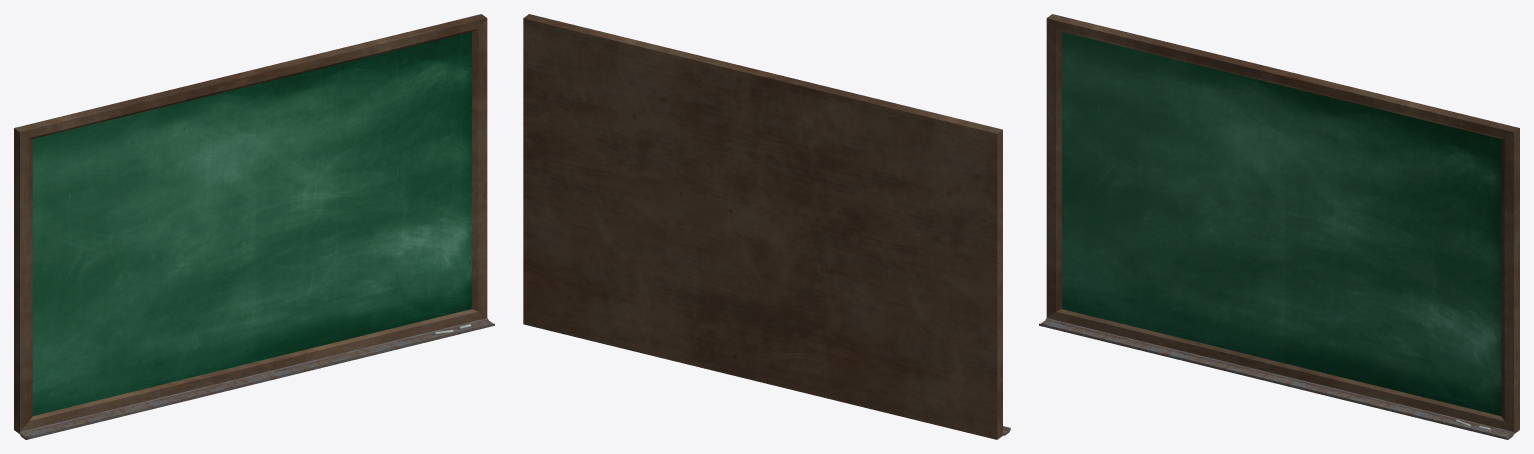
The model's file is chalkboard.glb.
3 views of the same model, side by side, from view 1: azimuth 30°, elevation 25°; view 2: azimuth 150°, elevation 25°; view 3: azimuth 330°, elevation 25° (orthographic).
Visible parts, largest first — view 1: Cube_0; view 2: Cube_0; view 3: Cube_0.
Boxes of the visible parts, left/top/right/bottom form: Cube_0: left=14, top=14, right=494, bottom=439; Cube_0: left=523, top=14, right=1010, bottom=439; Cube_0: left=1039, top=14, right=1519, bottom=439.
Bounding box in the file's own units: 5.52 × 3.42 × 0.273.
1 material, 1 textured.
